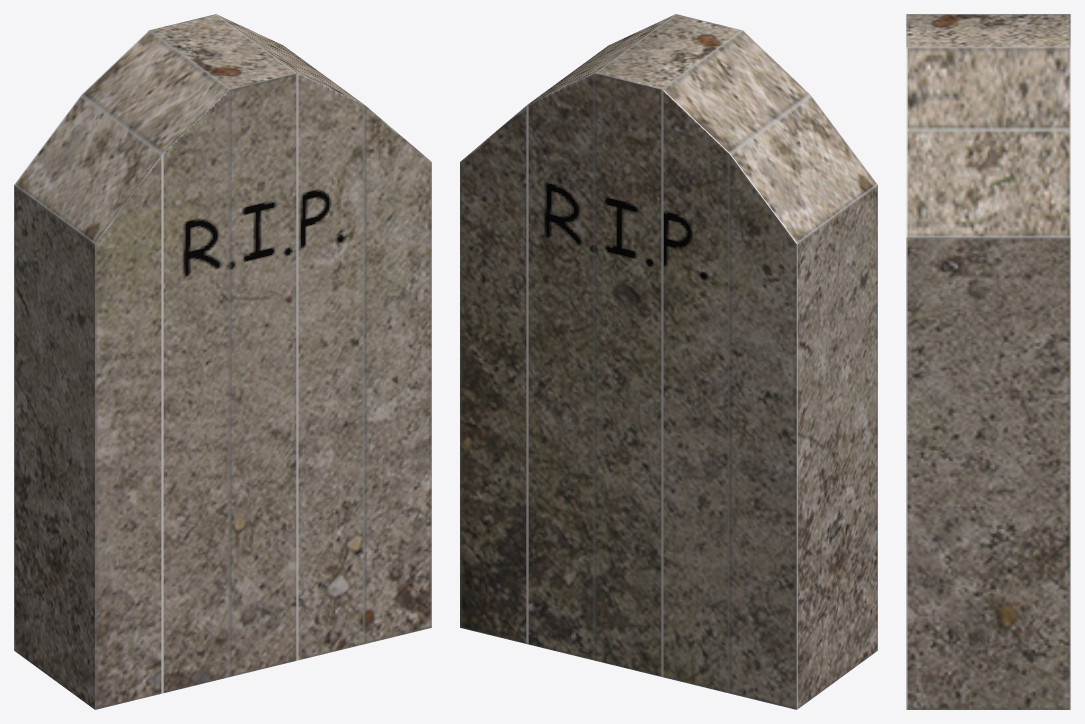
File: gravestone.fbx
3 views of the same model, side by side, from view 1: azimuth 30°, elevation 25°; view 2: azimuth 150°, elevation 25°; view 3: azimuth 270°, elevation 25° (orthographic).
Visible parts, largest first — view 1: pCube1; view 2: pCube1; view 3: pCube1.
Boxes of the visible parts, bbox=[...] form: pCube1: bbox=[14, 14, 431, 709]; pCube1: bbox=[460, 14, 877, 709]; pCube1: bbox=[906, 14, 1070, 709].
Size of the model in its own units: 1.2 by 2 by 0.5.
